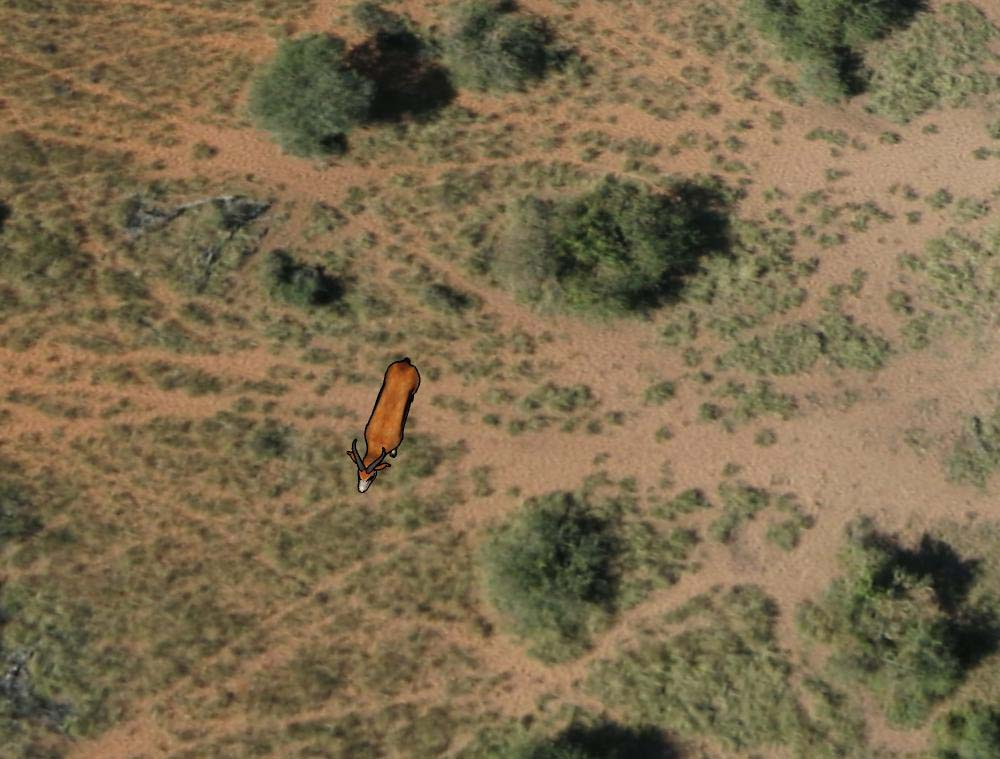springbok: (346, 355, 422, 496)
